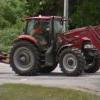Tractor: (12, 8, 100, 90)
